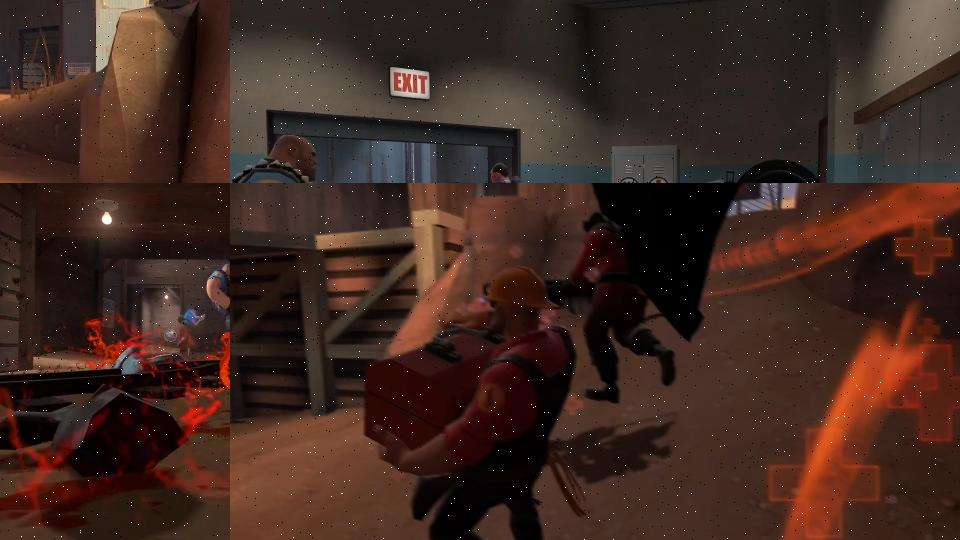Enemy: (360, 265, 589, 540), (542, 206, 693, 408), (203, 262, 230, 361), (176, 306, 209, 361)
